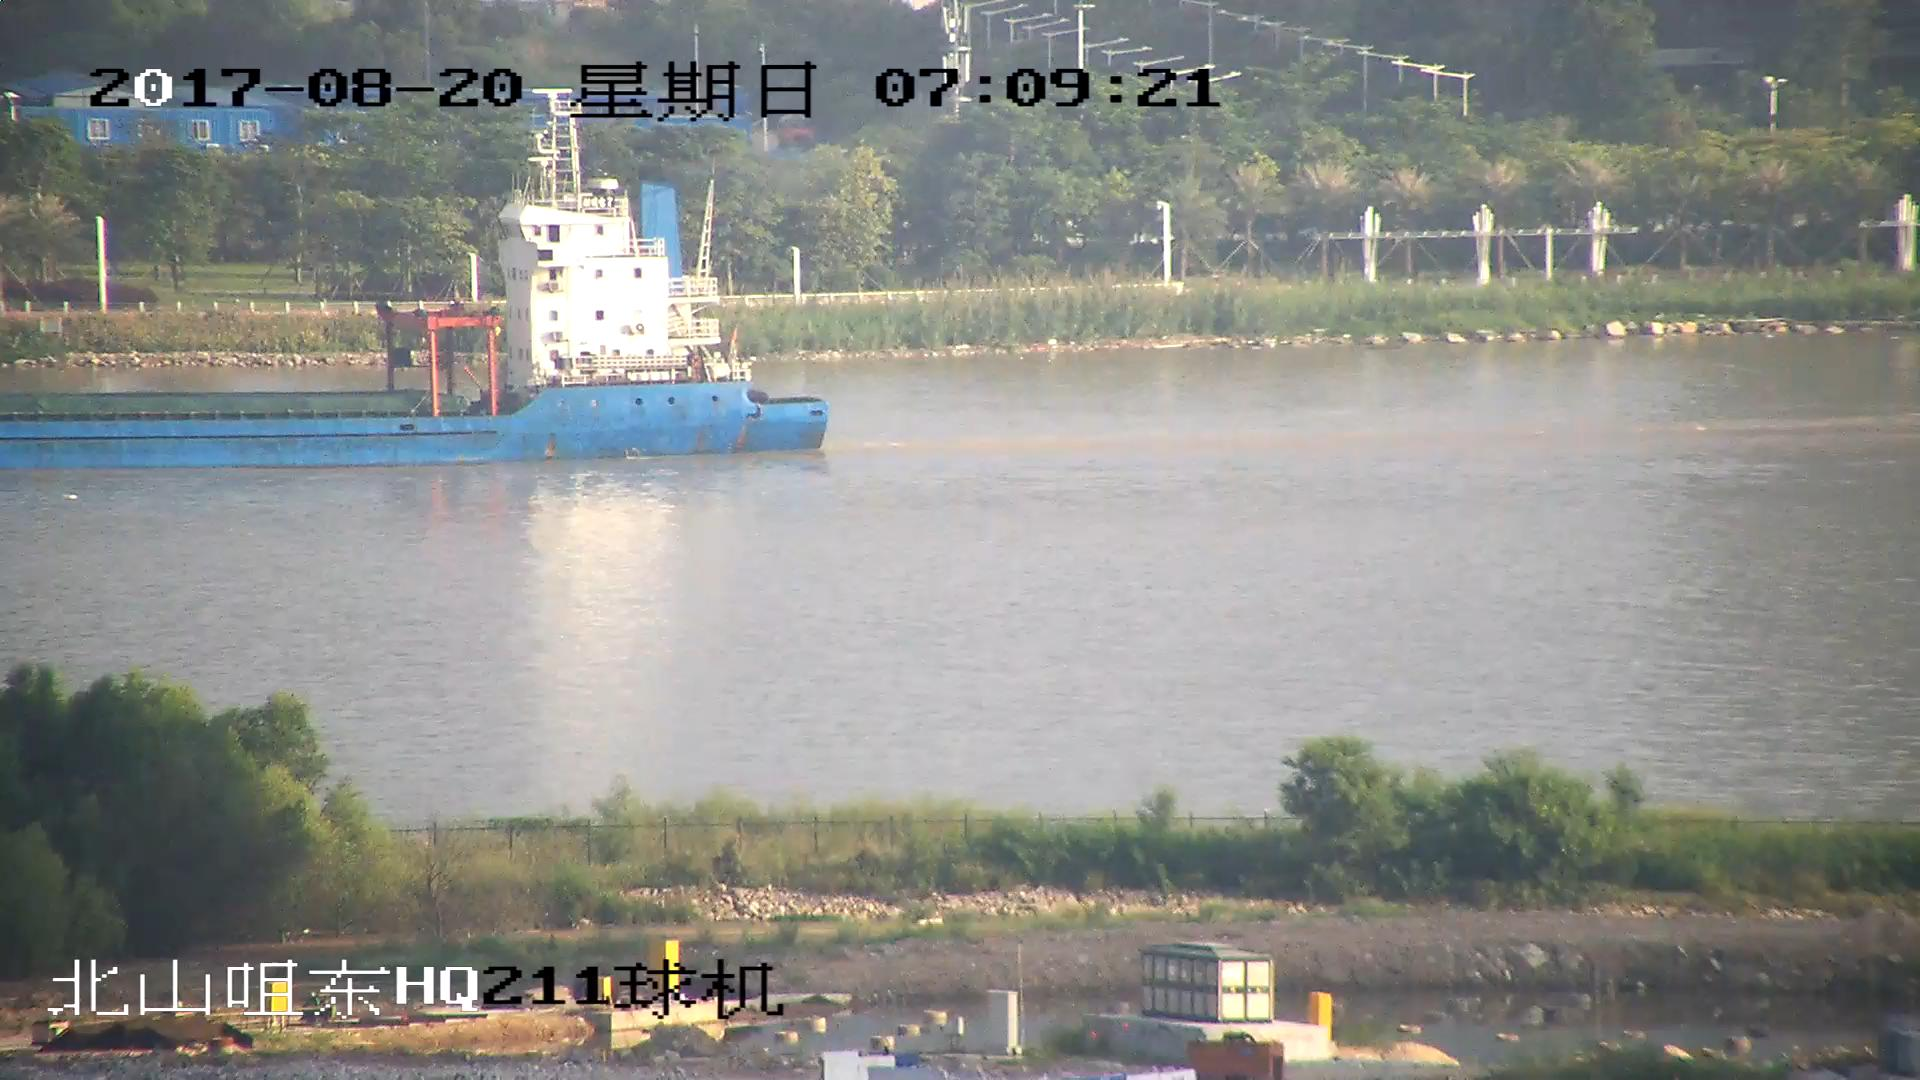general cargo ship: (1, 134, 831, 470)
